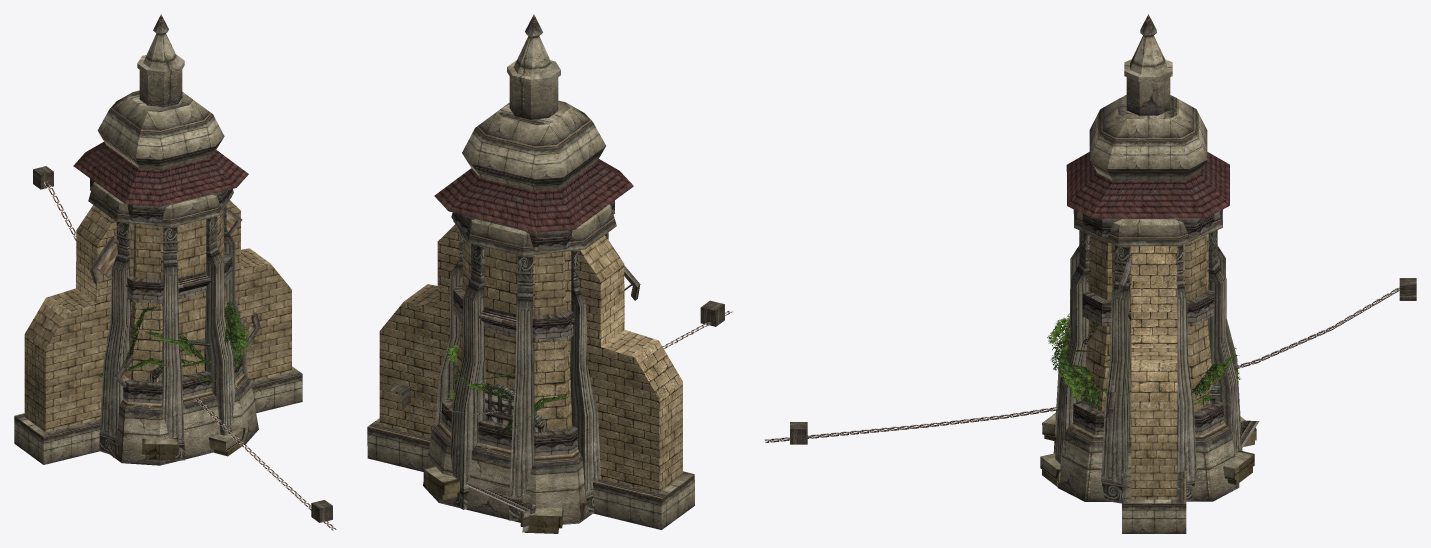
Rendered from props.glb.
3 renders of one model, left to right at view 1: azimuth 30°, elevation 25°; view 2: azimuth 150°, elevation 25°; view 3: azimuth 270°, elevation 25°, orthographic. The views are drawn at different scales.
Visible parts, largest first — view 1: castle_tower02, st_dong02, castle_tower03, st-tree02-1, st_chain01, windmill, cao_g_acc7, cao_g_acc6; view 2: castle_tower02, st_dong02, castle_tower03, w1_windmillhouse, st_chain01, st-tree02-1, cao_g_acc6, cao_g_acc7, cao_g_acc9; view 3: castle_tower02, castle_tower03, st_dong02, st-tree02-1, st_chain01, cao_g_acc7.
Boxes of the visible parts, x1,y1,x2,y2 form: castle_tower02: (73,14,258,465); st_dong02: (14,200,302,464); castle_tower03: (88,182,247,460); st-tree02-1: (100,301,250,381); st_chain01: (33,166,336,530); windmill: (89,208,260,387); cao_g_acc7: (142,437,178,460); cao_g_acc6: (209,428,245,456); castle_tower02: (423,14,633,524); st_dong02: (367,224,694,529); castle_tower03: (435,204,616,520); w1_windmillhouse: (480,384,544,432); st_chain01: (387,300,733,414); st-tree02-1: (445,345,572,436); cao_g_acc6: (520,507,563,533); cao_g_acc7: (423,466,459,500); cao_g_acc9: (465,484,536,532); castle_tower02: (1057,14,1239,501); castle_tower03: (1053,209,1242,503); st_dong02: (1122,246,1186,533); st-tree02-1: (1047,313,1240,410); st_chain01: (764,278,1416,444); cao_g_acc7: (1042,412,1254,484).
Size of the model in its own units: 22.11 by 34.22 by 43.94.
42 materials, 42 textured.
